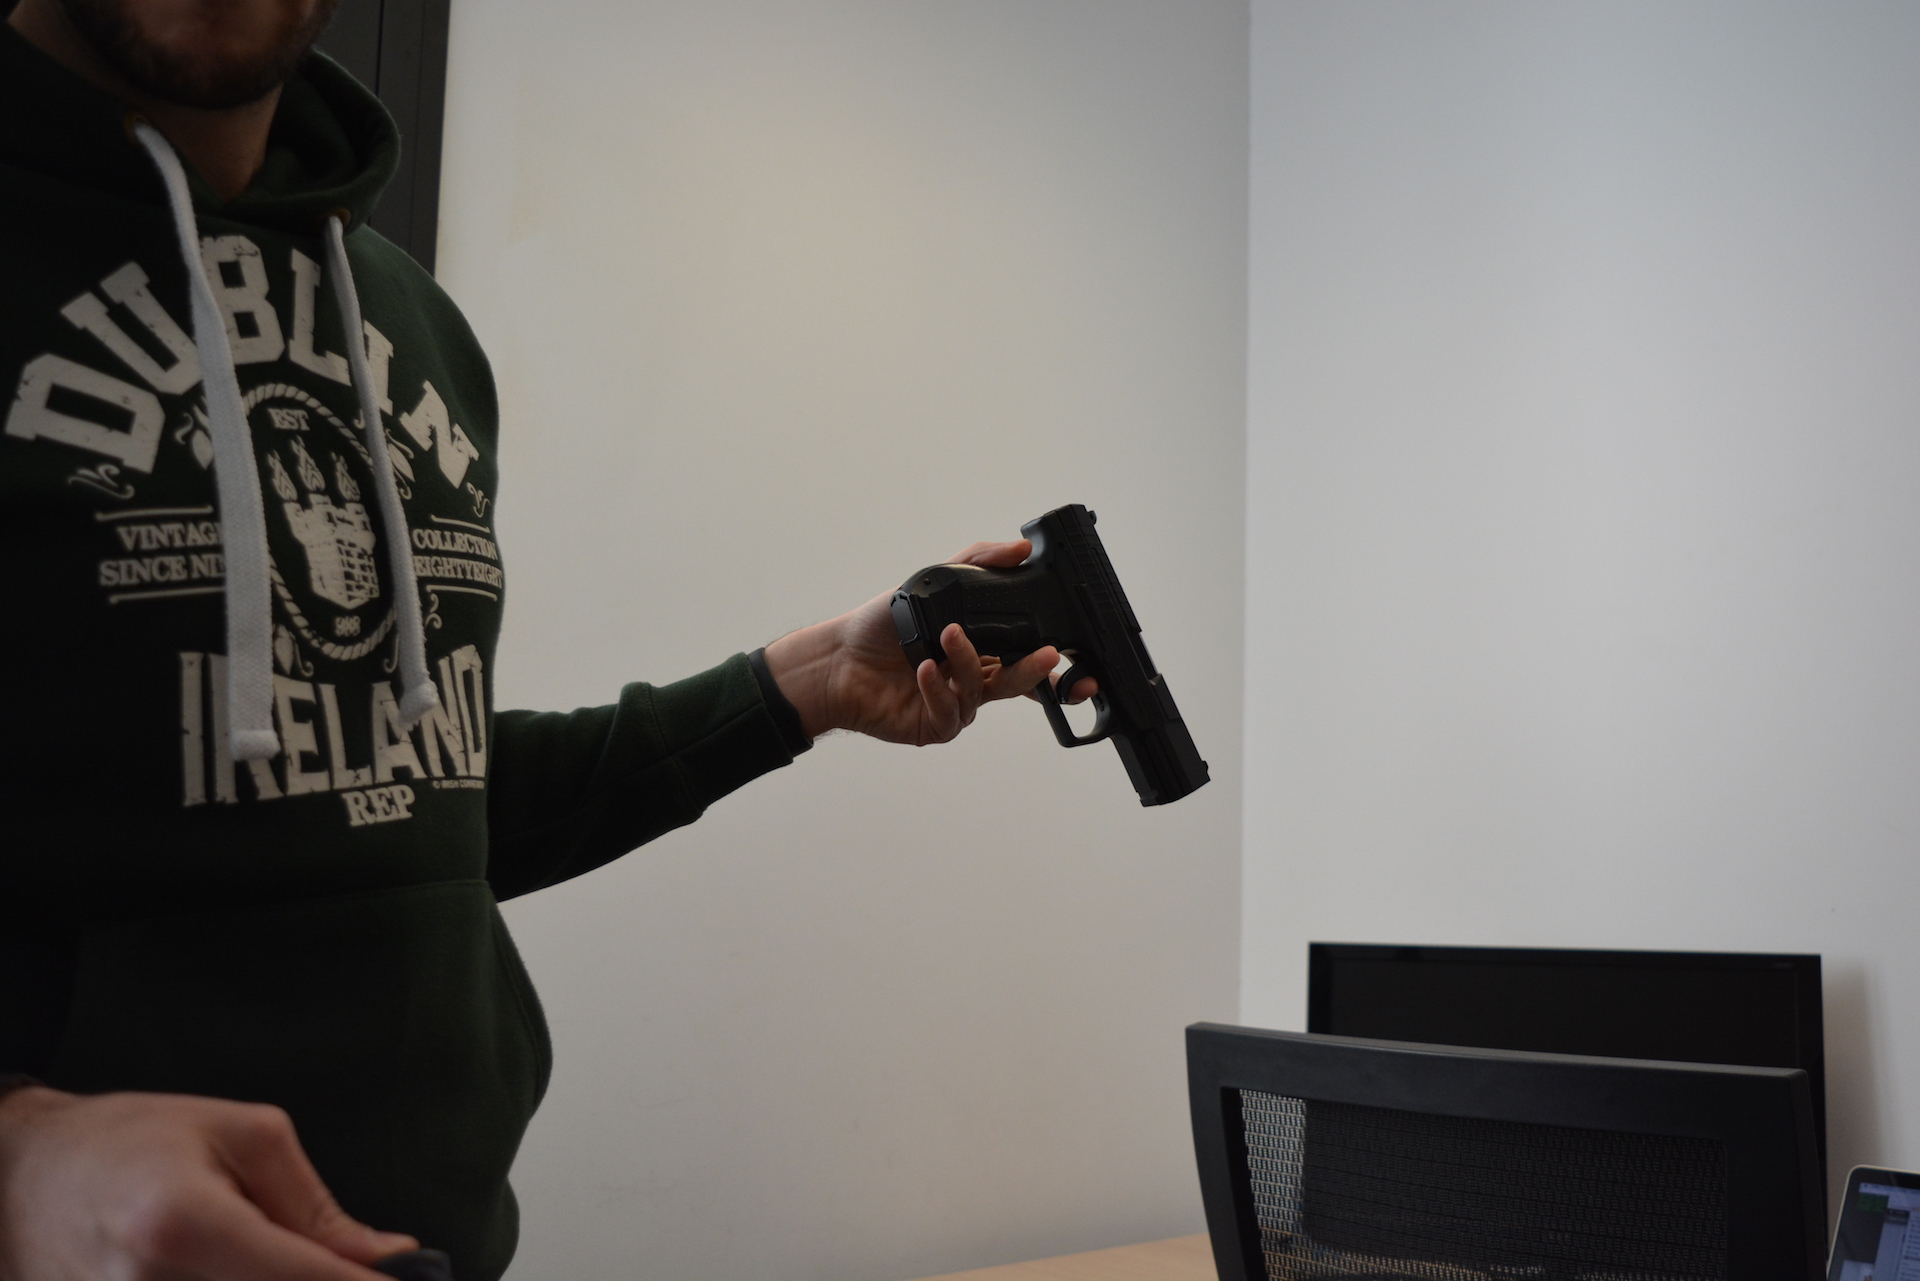pistol: (888, 500, 1217, 809)
